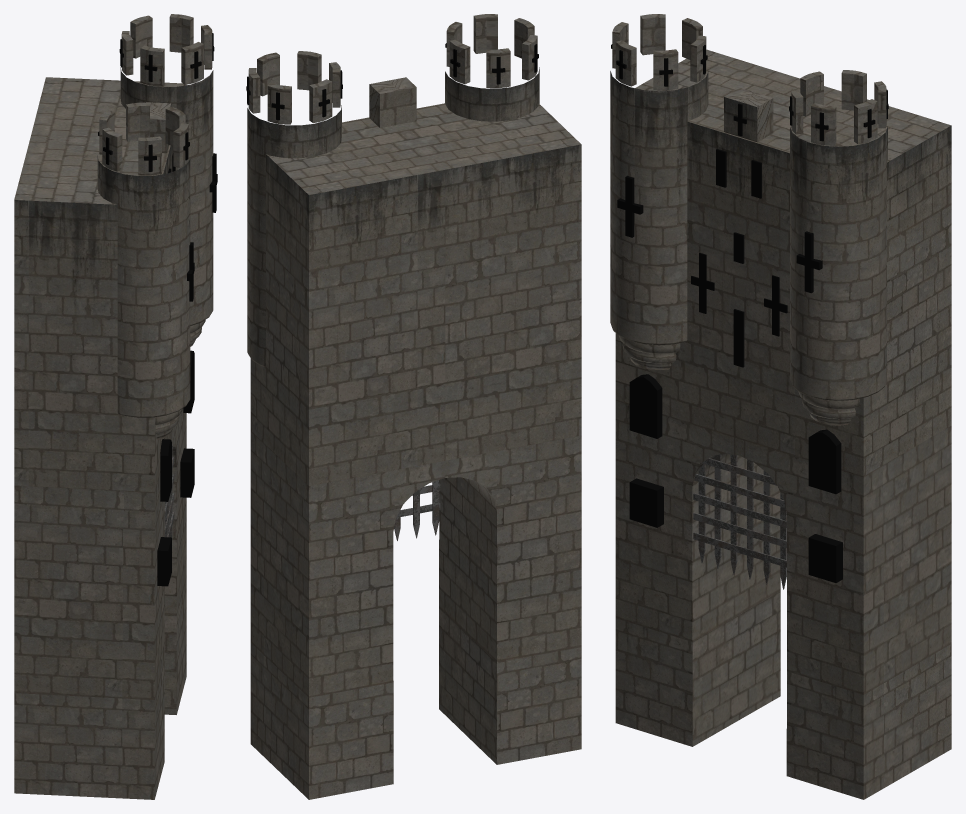
The model's file is Castle_Boundary_Gate_2.glb.
3 renders of one model, left to right at view 1: azimuth 30°, elevation 25°; view 2: azimuth 150°, elevation 25°; view 3: azimuth 270°, elevation 25°, orthographic. The views are drawn at different scales.
Parts seen in each view (by area): view 1: Castle_Boundary_Gate_2; view 2: Castle_Boundary_Gate_2; view 3: Castle_Boundary_Gate_2.
Boxes of the visible parts, x1=… form: Castle_Boundary_Gate_2: x1=14, y1=14, x2=217, y2=799; Castle_Boundary_Gate_2: x1=246, y1=14, x2=581, y2=799; Castle_Boundary_Gate_2: x1=610, y1=14, x2=951, y2=799.
Size of the model in its own units: 10.24 by 24.98 by 11.12.
3 materials, 2 textured.
